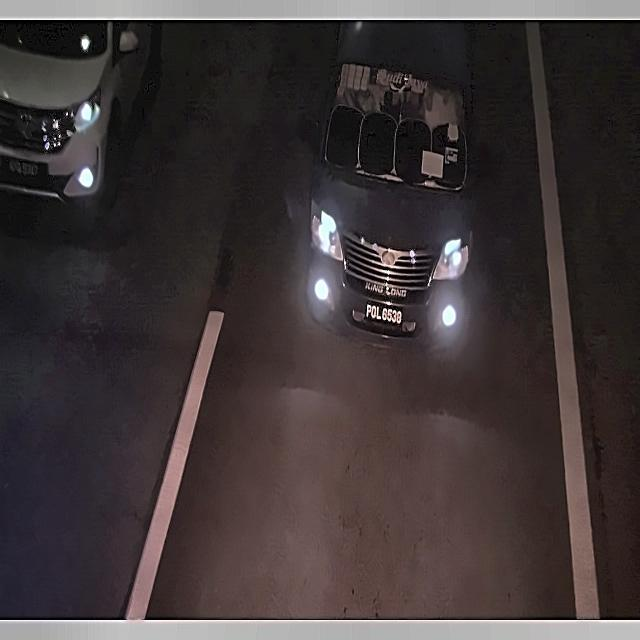car: (360, 296, 408, 331)
